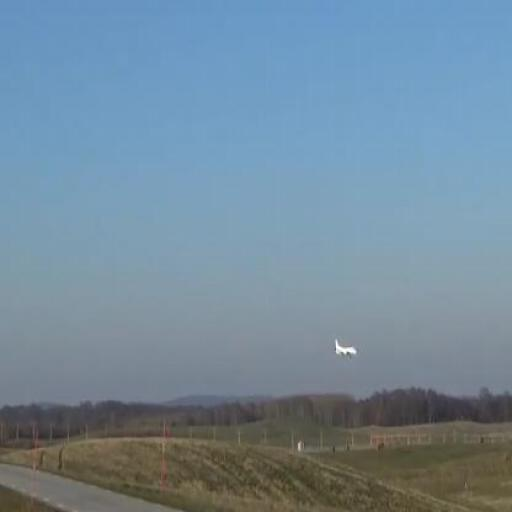aircraft: (333, 339, 357, 358)
